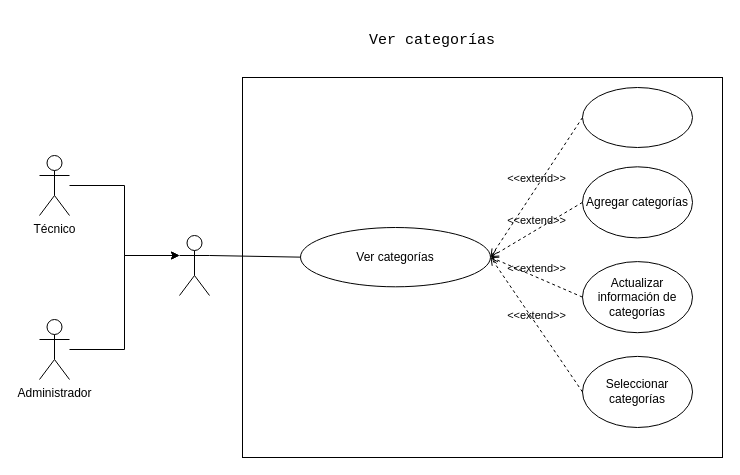
Image size: 740x475. Some labels were removed from this diagram. The centre of each missing label's shape, as x and y in pixels:
"Eliminar categorías" belongs at (x=637, y=117).
"Usuario" belongs at (x=194, y=265).
